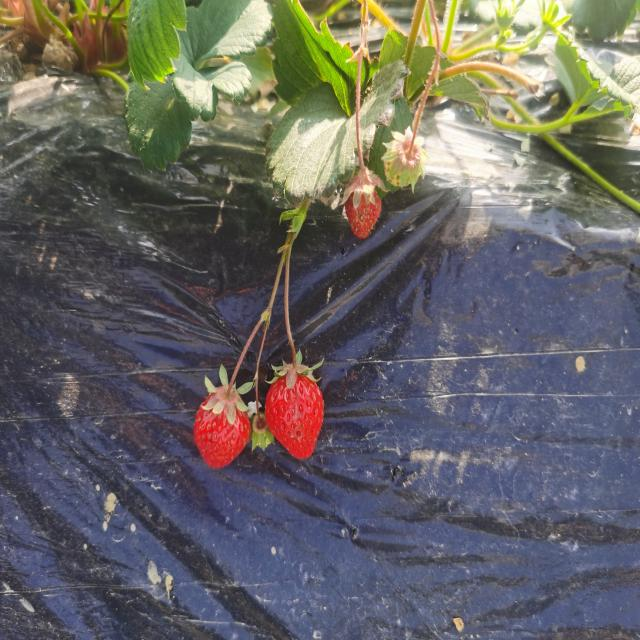stem: (225, 344, 249, 400), (285, 316, 297, 371), (357, 136, 367, 174)
strawberry: (264, 364, 324, 458), (193, 386, 251, 468), (345, 179, 381, 238)
